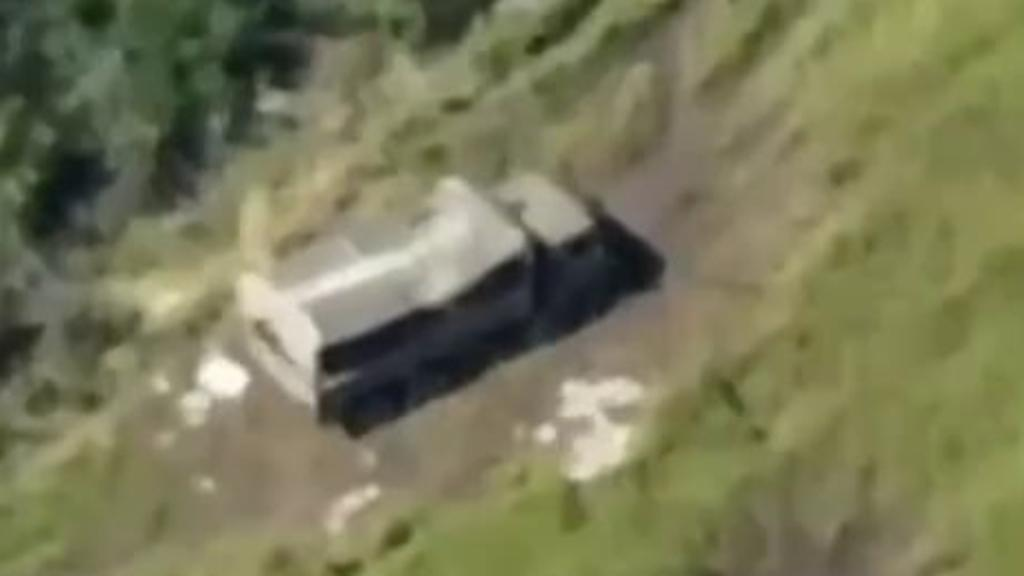TRUCK: (236, 164, 610, 430)
